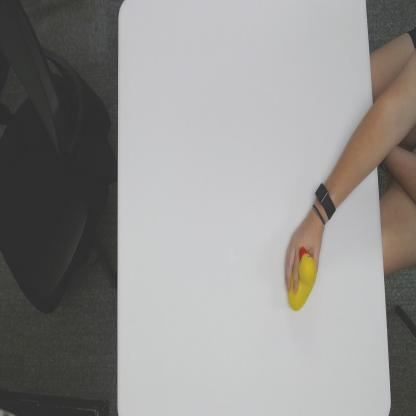Arm: (337, 107, 377, 206)
Duck: (288, 246, 316, 312)
Hand: (284, 214, 330, 294)
